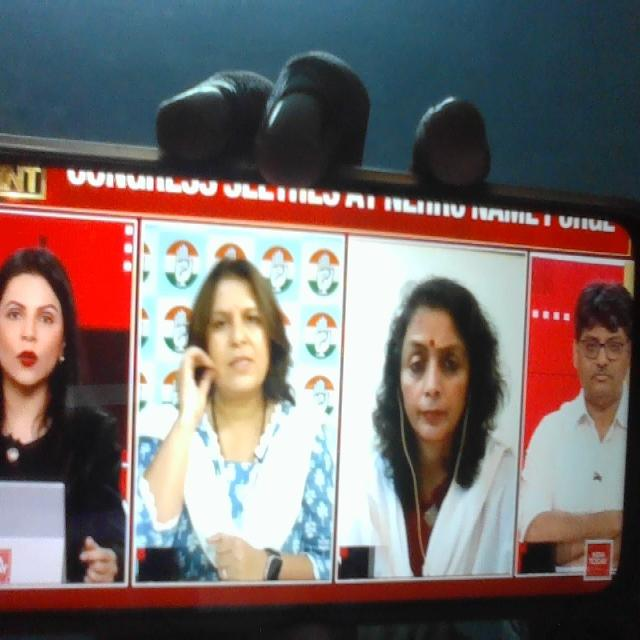fake: (377, 264, 487, 472)
